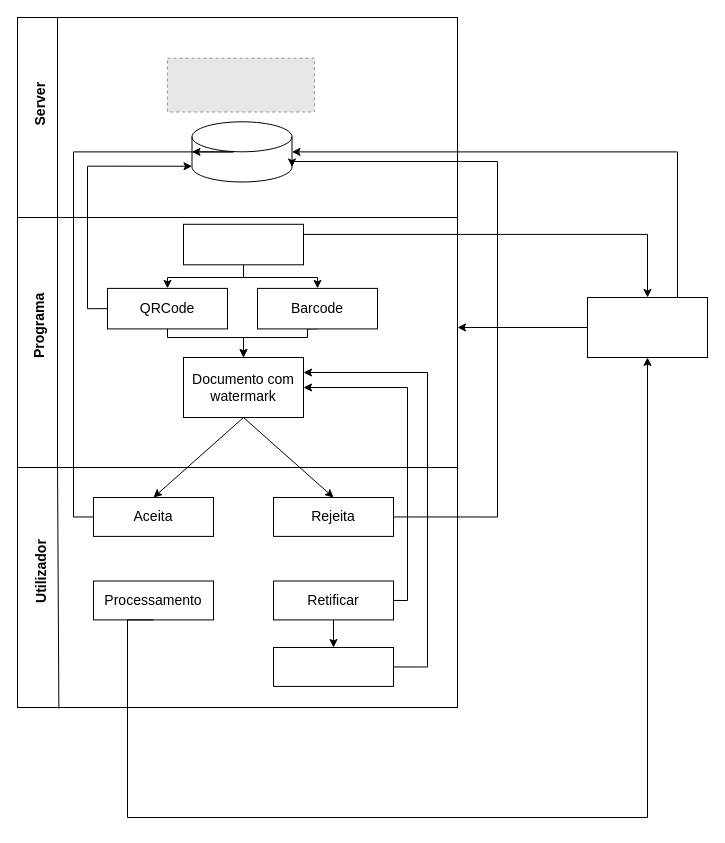
Some shapes in this 725 by 843 pixel diagram are drawn without their labels. Grey dashed boxes stand in for pictures. The centre of each missing label's shape, as x and y in pixels:
Analise forense: pixel 333 666
Base de dados: pixel 241 151
Documento: pixel 647 327
Metadados: pixel 243 244
